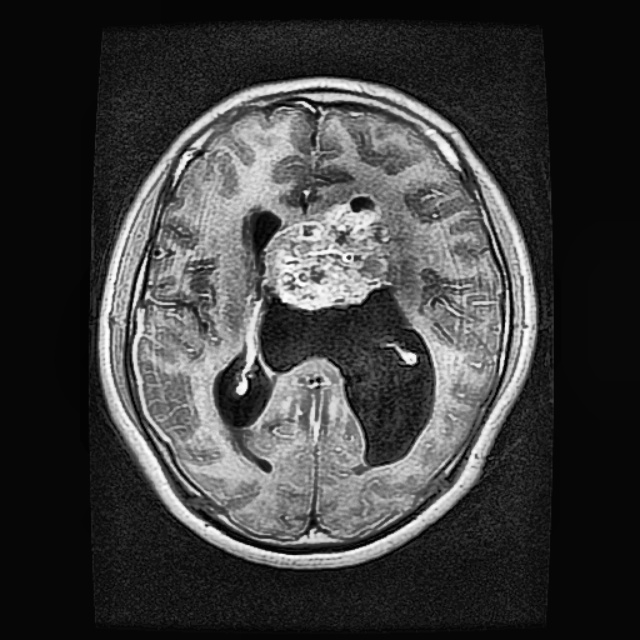Glioma: (260, 194, 397, 312)
